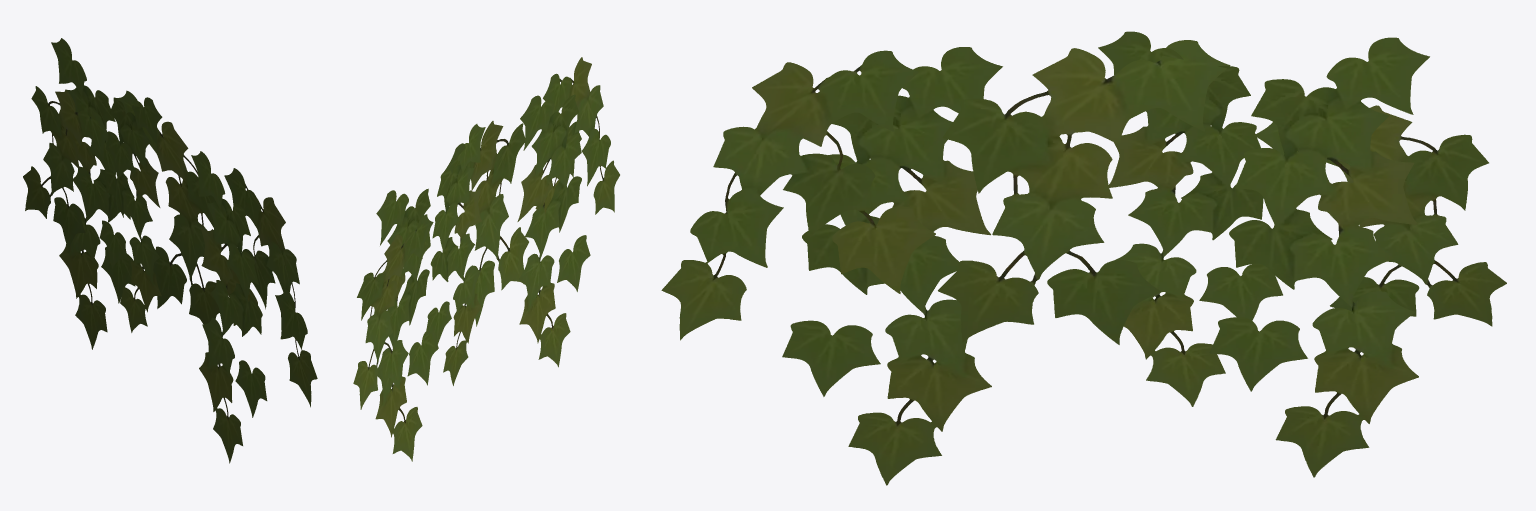
The picture shows the model from 3 angles, left to right: view 1: azimuth 30°, elevation 25°; view 2: azimuth 150°, elevation 25°; view 3: azimuth 270°, elevation 25°; orthographic projection. The views are drawn at different scales.
Parts seen in each view (by area): view 1: body0_model0_lod0_mesh0; view 2: body0_model0_lod0_mesh0; view 3: body0_model0_lod0_mesh0.
Boxes of the visible parts, box(x1,y1,x2,y2) form: body0_model0_lod0_mesh0: box(23, 38, 317, 463); body0_model0_lod0_mesh0: box(353, 57, 619, 461); body0_model0_lod0_mesh0: box(661, 31, 1506, 485).
Size of the model in its own units: 2.91 by 39.15 by 63.82.
Materials: 1 (1 with a texture image).
